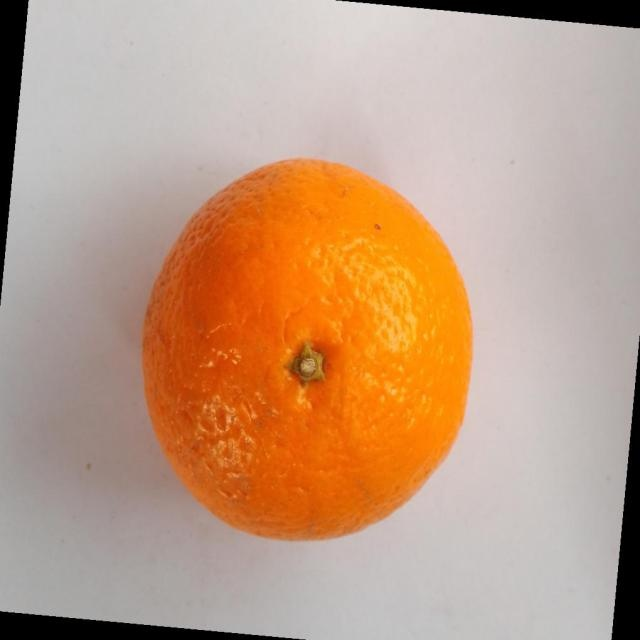agrume: (140, 155, 473, 541)
